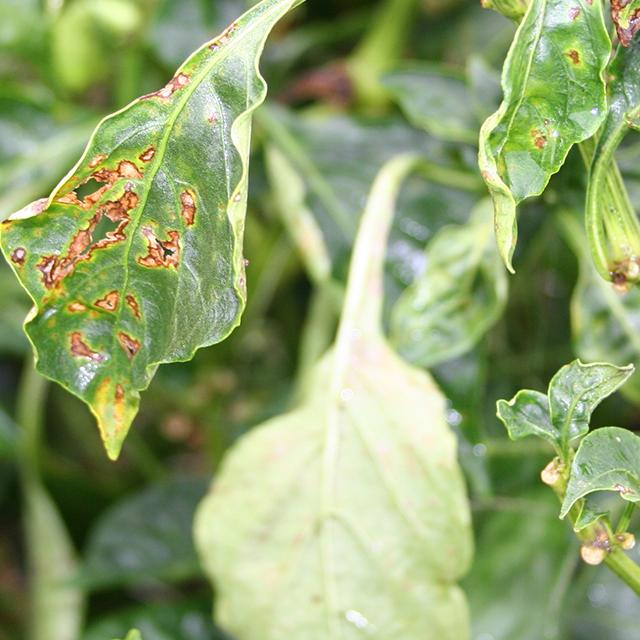Tomato leaf bacterial spot: (0, 0, 319, 465), (448, 0, 628, 214), (636, 0, 640, 158)
